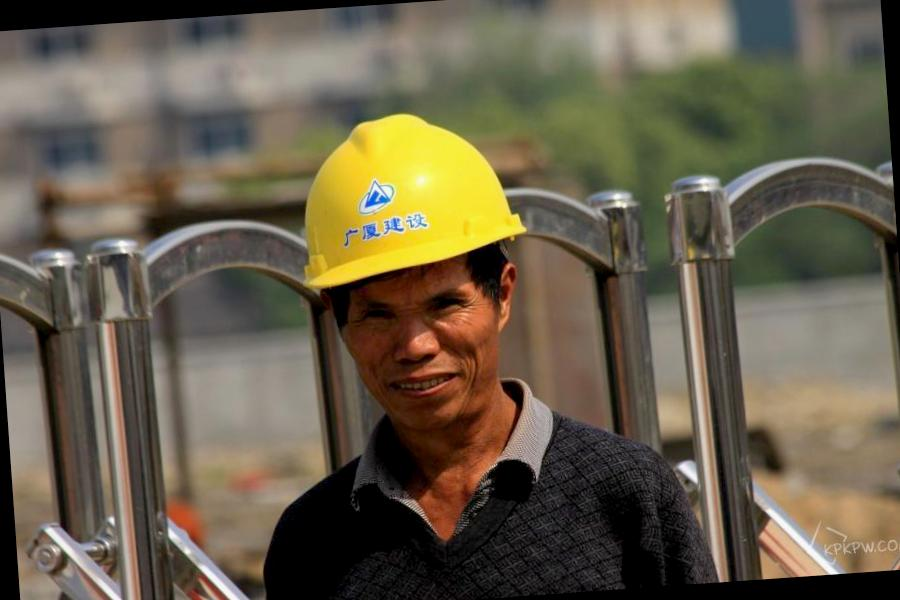helmet: (281, 104, 532, 314)
no_vest: (262, 393, 698, 600)
person: (226, 93, 705, 600)
